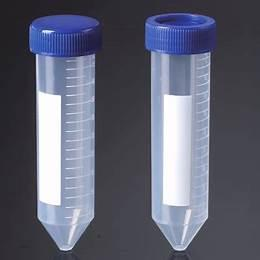Test tube: (129, 8, 220, 259), (30, 10, 99, 244)
